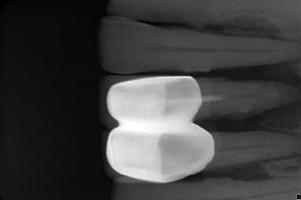Dental Caries: (259, 63, 301, 129)
